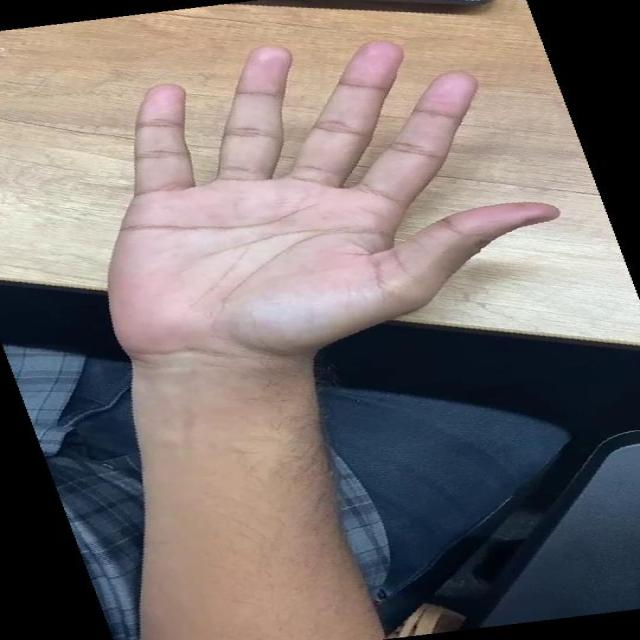no-gloves: (0, 37, 621, 381)
